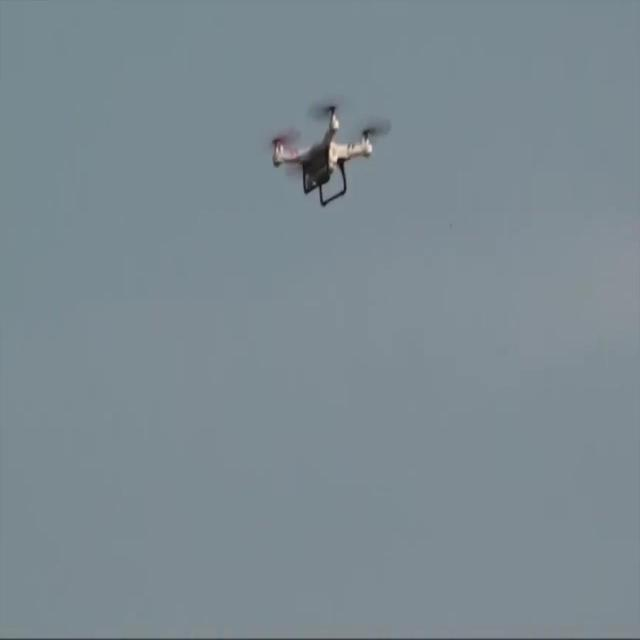drone: (267, 94, 388, 210)
